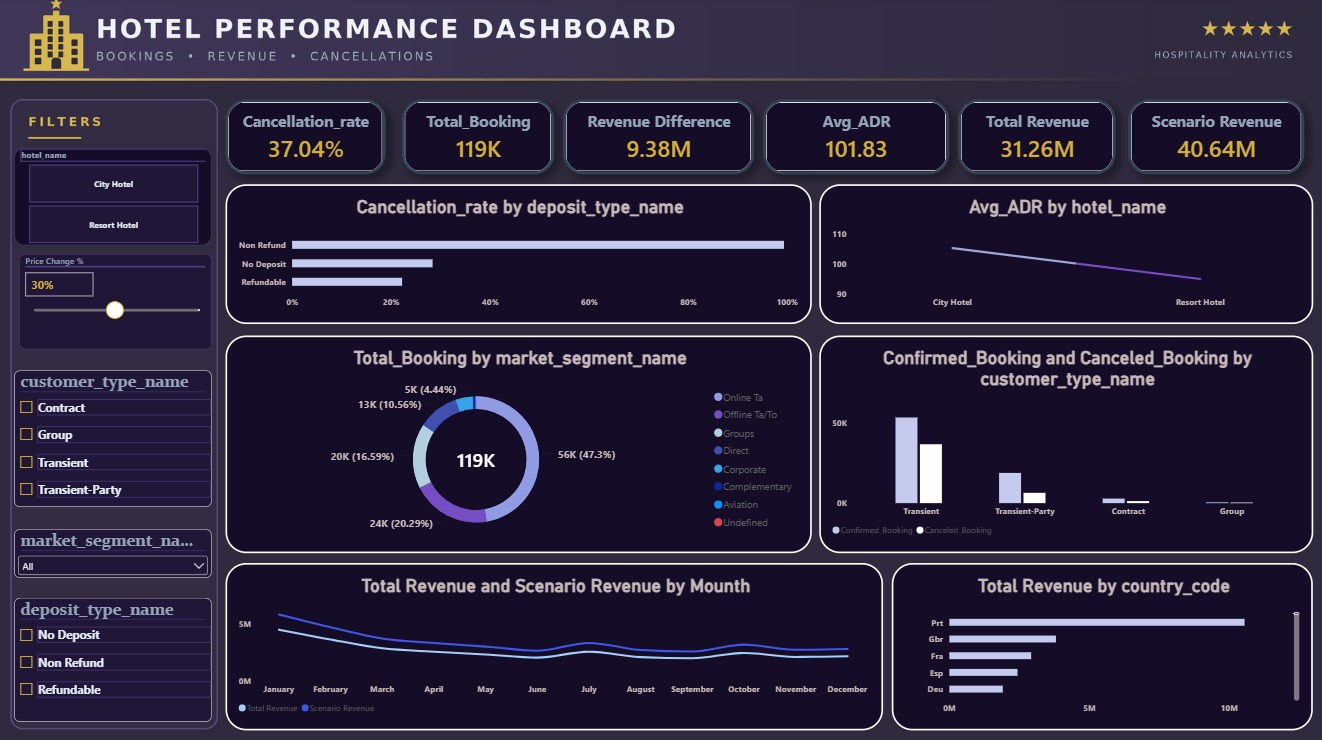

This screenshot's page, from the dashboard's own definition file:
{"tool":"powerbi","page":{"name":"Dashboard","canvas":[1920,1080],"ordinal":0},"visuals":[{"type":"cardVisual","title":"Average ADR","fields":{"Data":["_Measures.Avg_ADR"]},"box":[1107.5,146.6,269.6,108.6],"z":0},{"type":"cardVisual","title":"Cancellation Rate","fields":{"Data":["_Measures.Cancellation_rate"]},"box":[329.4,146.6,231.6,108.6],"z":1000},{"type":"cardVisual","title":"Total Revenue","fields":{"Data":["_Measures.Total Revenue"]},"box":[1389.8,146.6,228,108.6],"z":2000},{"type":"cardVisual","title":"Total Booking","fields":{"Data":["_Measures.Total_Booking"]},"box":[584.5,146.6,220.8,108.6],"z":3000},{"type":"cardVisual","title":"Scenario Revenue","fields":{"Data":["Price Change %.Scenario Revenue"]},"box":[1635.9,146.6,255.2,108.6],"z":4000},{"type":"cardVisual","title":"Revenue Difference","fields":{"Data":["Price Change %.Revenue Difference"]},"box":[818,146.6,276.9,108.6],"z":5000},{"type":"clusteredBarChart","title":"Total Revenue by country_code","fields":{"Category":["dimensions country.country_code"],"Y":["_Measures.Total Revenue"]},"box":[1293.9,818,609.9,242.5],"z":6000},{"type":"clusteredColumnChart","title":"Confirmed_Booking and Canceled_Booking by customer_type_name","fields":{"Category":["dimensions customer_type.customer_type_name"],"Y":["_Measures.Confirmed_Booking","_Measures.Canceled_Booking"]},"box":[1188.9,488.6,714.8,314.9],"z":7000},{"type":"lineChart","title":"Total Revenue and Scenario Revenue by Mounth","fields":{"Category":["facts booking.booking_date.Variation.Date Hierarchy.Month"],"Y":["_Measures.Total Revenue","Price Change %.Scenario Revenue"]},"box":[329.4,818,951.9,242.5],"z":8000},{"type":"slicer","fields":{"Values":["Price Change %.Price Change %"]},"box":[30.8,371,278.7,137.5],"z":9000},{"type":"slicer","fields":{"Values":["dimensions hotel.hotel_name"]},"box":[23.5,217.2,285.9,141.2],"z":10000},{"type":"slicer","fields":{"Values":["dimensions customer_type.customer_type_name"]},"box":[23.5,539.3,285.9,197.3],"z":11000},{"type":"donutChart","fields":{"Category":["dimensions market_segment.market_segment_name"],"Y":["_Measures.Total_Booking"]},"box":[329.4,488.6,848.7,314.9],"z":12000},{"type":"clusteredBarChart","fields":{"Category":["dimensions deposit_type.deposit_type_name"],"Y":["_Measures.Cancellation_rate"]},"box":[329.4,269.6,848.7,202.7],"z":13000},{"type":"lineChart","fields":{"Category":["dimensions hotel.hotel_name"],"Y":["_Measures.Avg_ADR"]},"box":[1188.9,269.6,714.8,202.7],"z":14000},{"type":"slicer","fields":{"Values":["dimensions market_segment.market_segment_name"]},"box":[23.5,769.1,285.9,70.6],"z":15000},{"type":"slicer","fields":{"Values":["dimensions deposit_type.deposit_type_name"]},"box":[23.5,868.6,285.9,179.2],"z":16000}]}

Visuals, with their boxes in screenshot pixels (x1, y1, x2, y2), scaled from the page's 1920x1080 canvas onto the 1322x740 screenshot:
"Average ADR" cardVisual: (763,100,948,175)
"Cancellation Rate" cardVisual: (227,100,386,175)
"Total Revenue" cardVisual: (957,100,1114,175)
"Total Booking" cardVisual: (402,100,554,175)
"Scenario Revenue" cardVisual: (1126,100,1302,175)
"Revenue Difference" cardVisual: (563,100,754,175)
"Total Revenue by country_code" clusteredBarChart: (891,560,1311,727)
"Confirmed_Booking and Canceled_Booking by customer_type_name" clusteredColumnChart: (819,335,1311,551)
"Total Revenue and Scenario Revenue by Mounth" lineChart: (227,560,882,727)
slicer - Price Change %.Price Change %: (21,254,213,348)
slicer - dimensions hotel.hotel_name: (16,149,213,246)
slicer - dimensions customer_type.customer_type_name: (16,370,213,505)
donutChart - dimensions market_segment.market_segment_name x _Measures.Total_Booking: (227,335,811,551)
clusteredBarChart - dimensions deposit_type.deposit_type_name x _Measures.Cancellation_rate: (227,185,811,324)
lineChart - dimensions hotel.hotel_name x _Measures.Avg_ADR: (819,185,1311,324)
slicer - dimensions market_segment.market_segment_name: (16,527,213,575)
slicer - dimensions deposit_type.deposit_type_name: (16,595,213,718)
